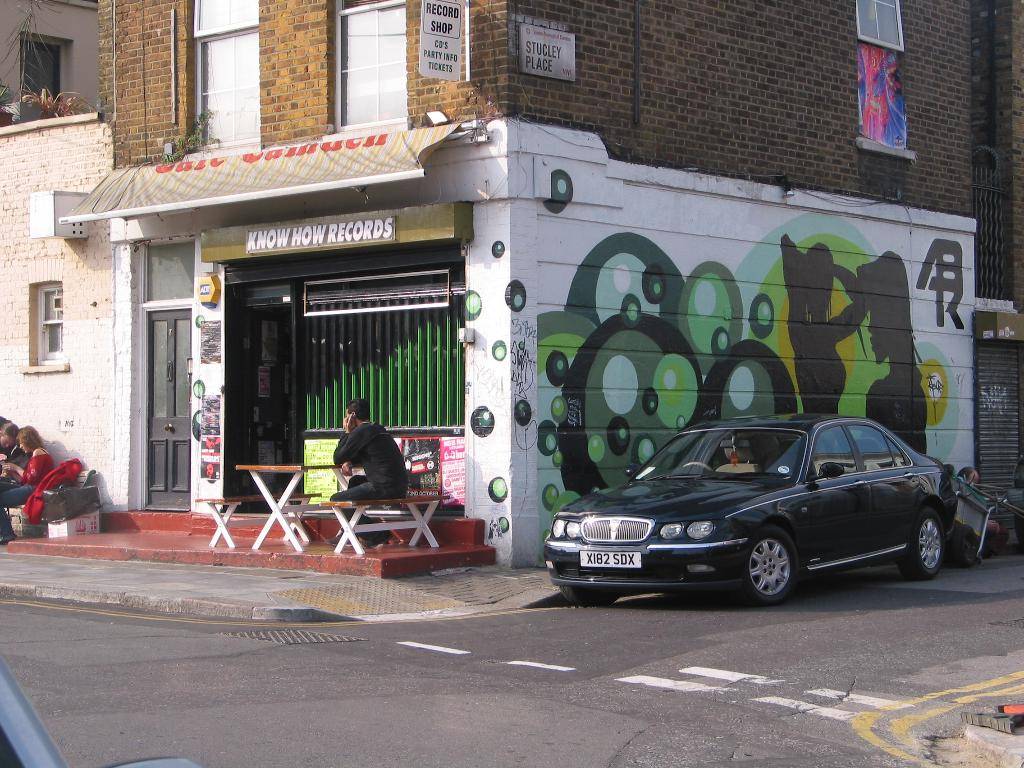Car: (536, 412, 984, 611)
